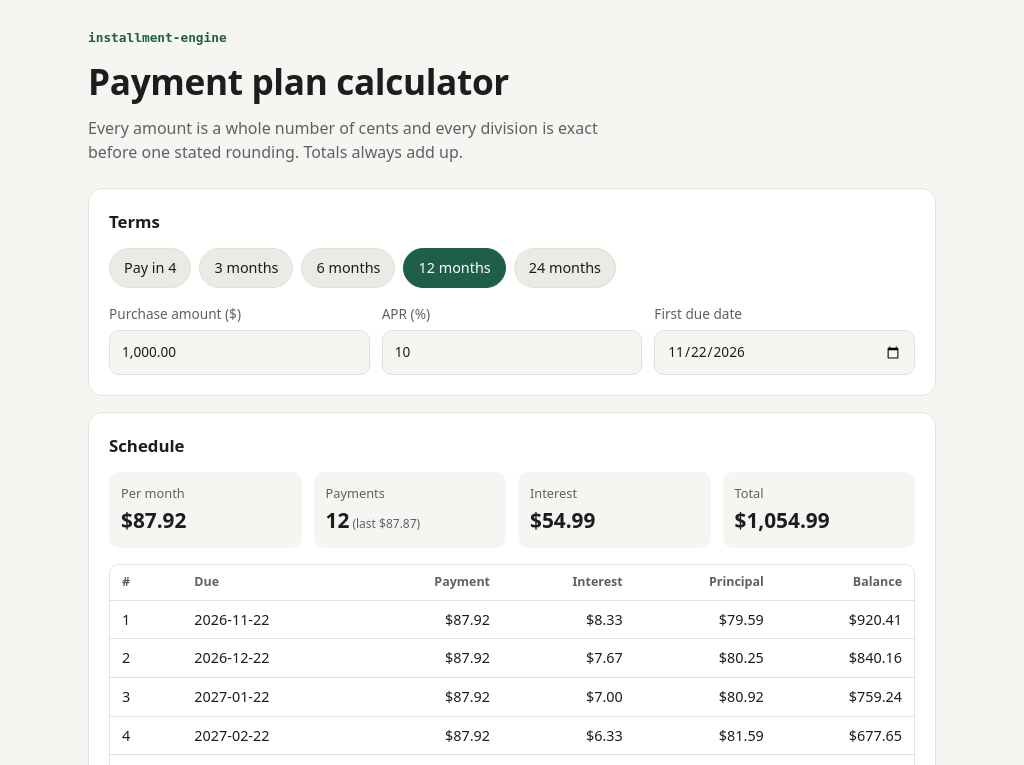
calculator UI › Pay in 4 locks APR to zero and schedules biweekly from the purchase date
What coordinates should you click on to do the following:
click the radio button labelled "Pay in 4"
I would click on:
 (150, 268)
Its box is [109,248,192,288].
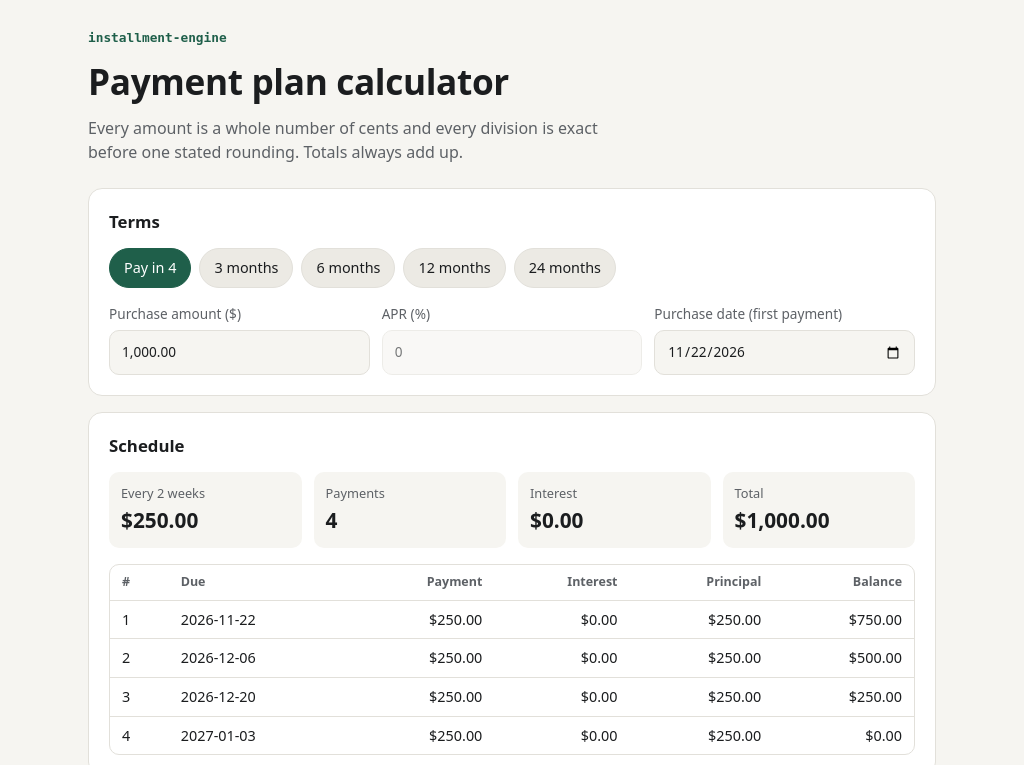
Check: the field labelled "APR (%)" is disabled, box [382,330,642,375]
Check: the text with test id "regular" reads "$250.00", box [121,506,198,534]
Check: the text with test id "interest" reads "$0.00", box [530,506,584,534]
